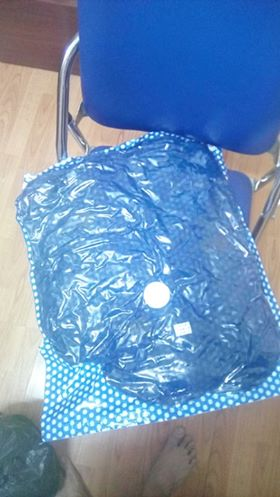plastic bag: (12, 131, 280, 445)
